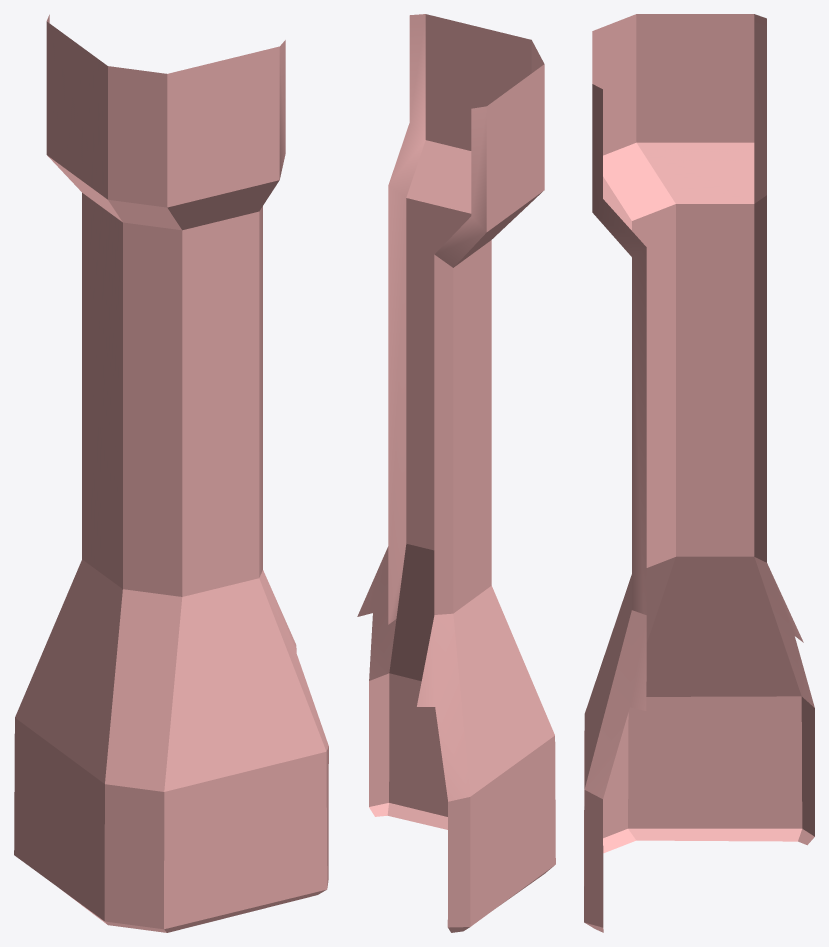
File: Mesh_BuildingA_TrimCornerOuterLarge_v2.fbx
3 views of the same model, side by side, from view 1: azimuth 30°, elevation 25°; view 2: azimuth 150°, elevation 25°; view 3: azimuth 270°, elevation 25° (orthographic). The views are drawn at different scales.
Parts seen in each view (by area): view 1: Mesh_BuildingA_TrimCornerOuterLarge; view 2: Mesh_BuildingA_TrimCornerOuterLarge; view 3: Mesh_BuildingA_TrimCornerOuterLarge.
Boxes of the visible parts, bbox=[...] form: Mesh_BuildingA_TrimCornerOuterLarge: bbox=[14, 14, 328, 932]; Mesh_BuildingA_TrimCornerOuterLarge: bbox=[357, 14, 555, 932]; Mesh_BuildingA_TrimCornerOuterLarge: bbox=[584, 14, 814, 932].
Bounding box in the file's own units: 51.51 × 200 × 50.71.
